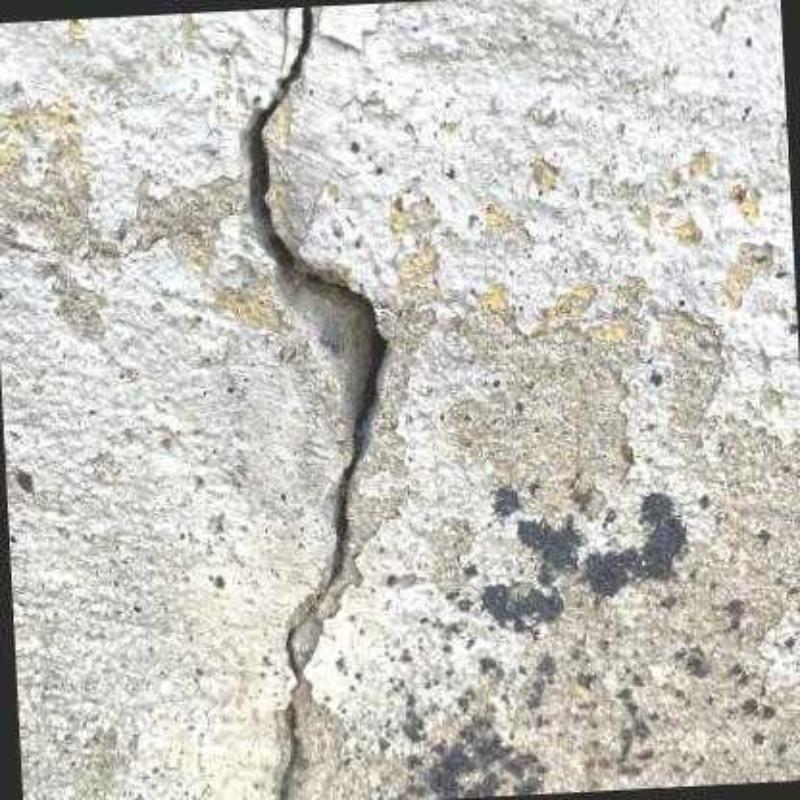crack: (245, 4, 387, 800)
